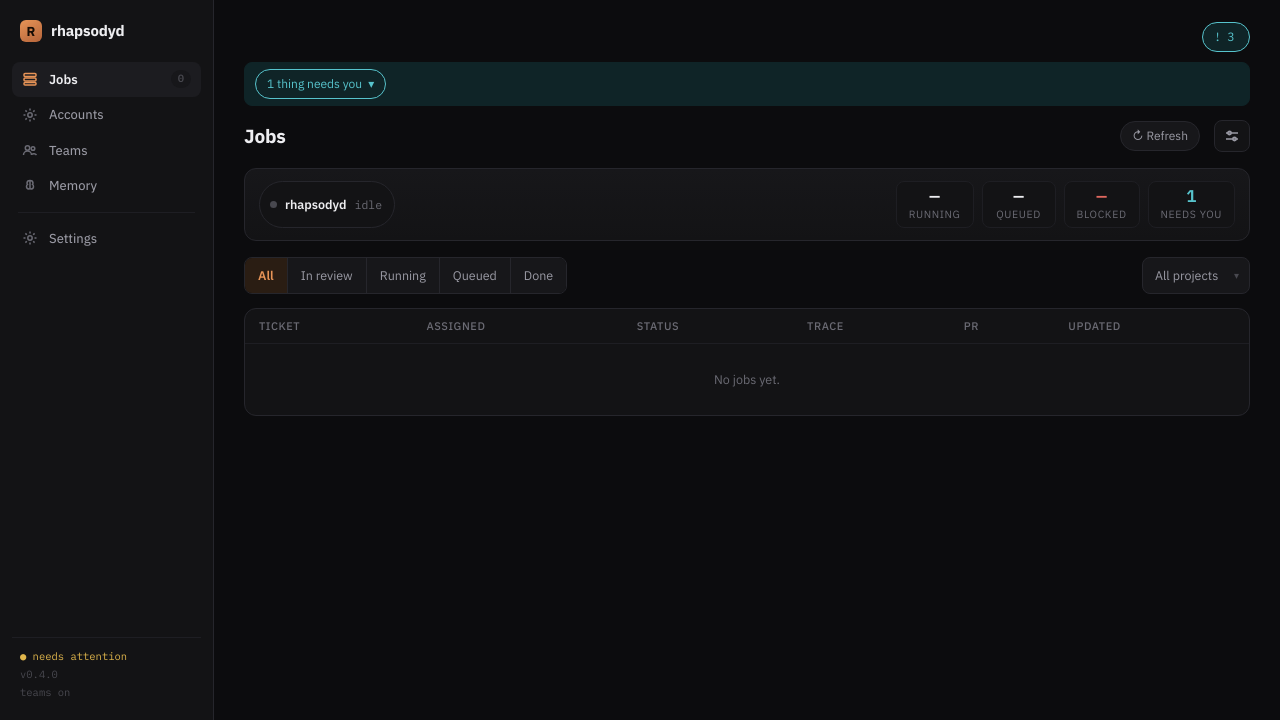
Scenario: shares the unread Needs-you count and filtered panel with the Jobs tile, including a real stuck PR
expect the text "1" is shown: met, box [1186,185,1196,207]
What coordinates should you click on to do the following:
click the button with aria-label "Needs you, 1 unread"
I would click on:
 (1191, 204)
Its box is [1148,181,1235,228].
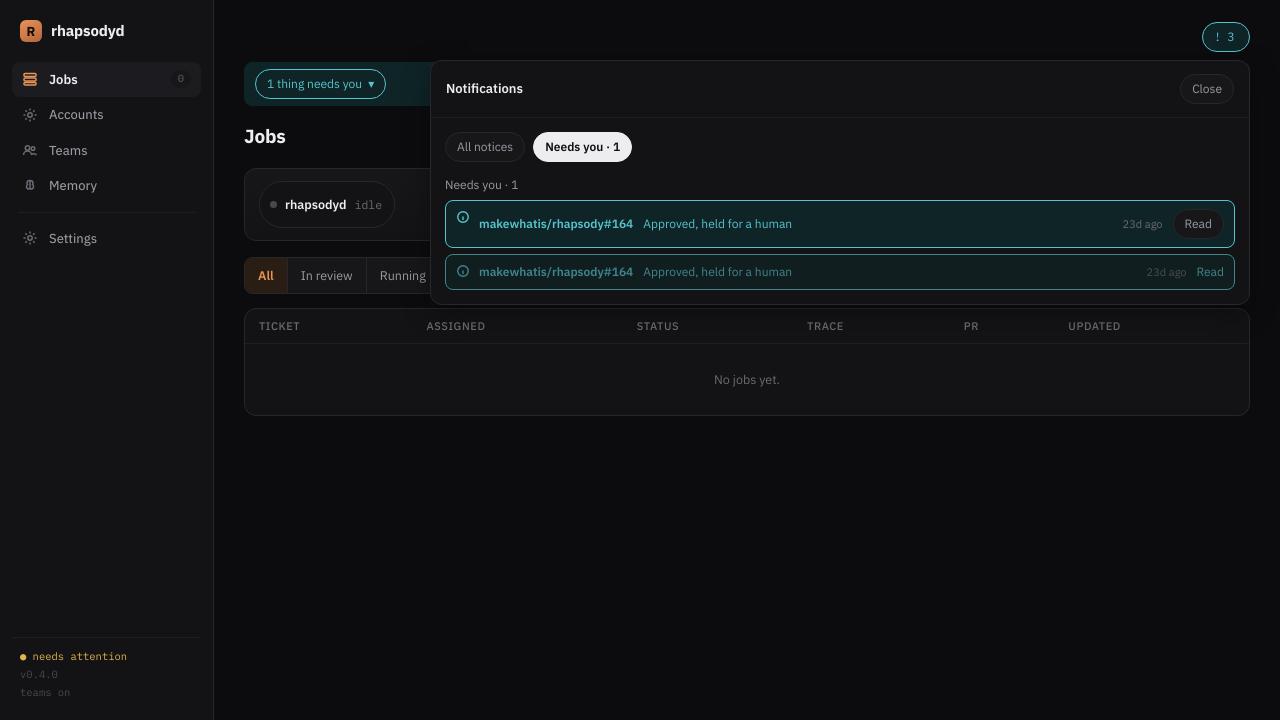
expect the heading "Decisions" is not shown: met
expect the heading "Needs you · 1" is shown: met, box [445,177,518,192]
expect the number of list items is 2: met, box [445,200,1235,248]; [445,254,1235,290]
What coordinates should you click on to do the following:
click the button "Close"
I would click on:
 (1207, 89)
Its box is [1180,74,1234,104].
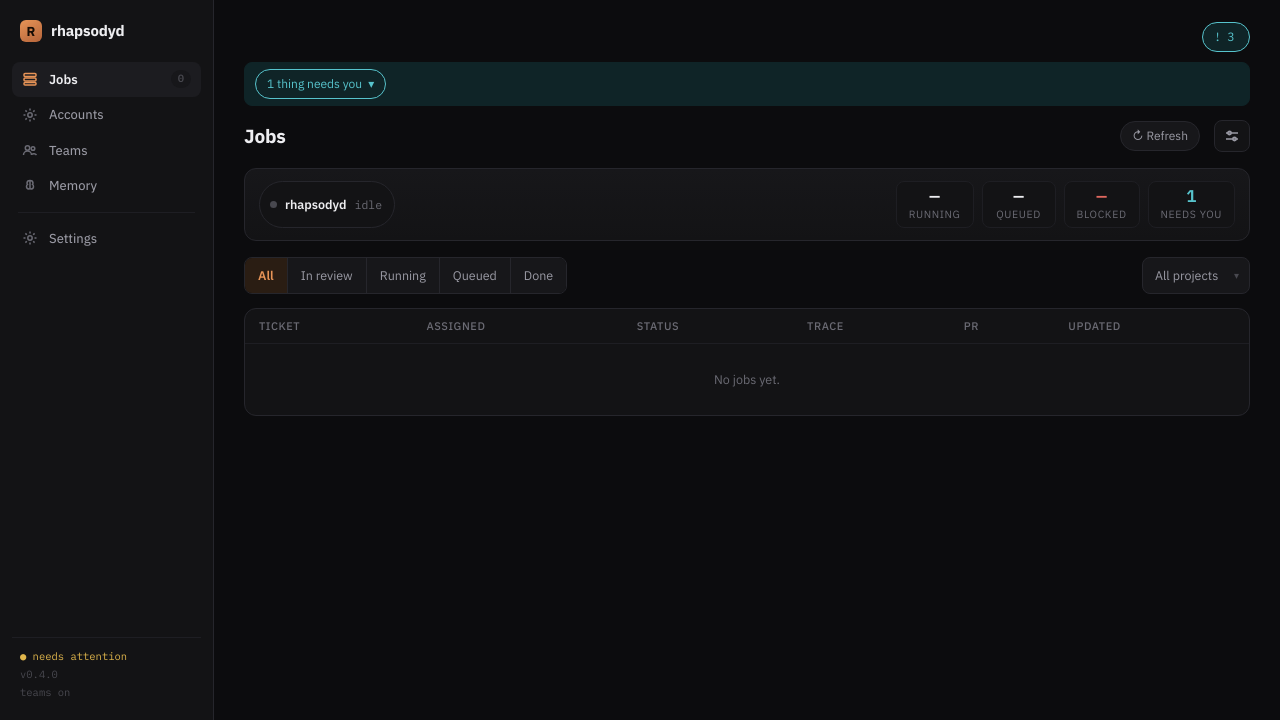
What coordinates should you click on to do the following:
click the button named "Notifications, 3 unread"
I would click on:
 (1226, 37)
Its box is [1202,22,1250,52].
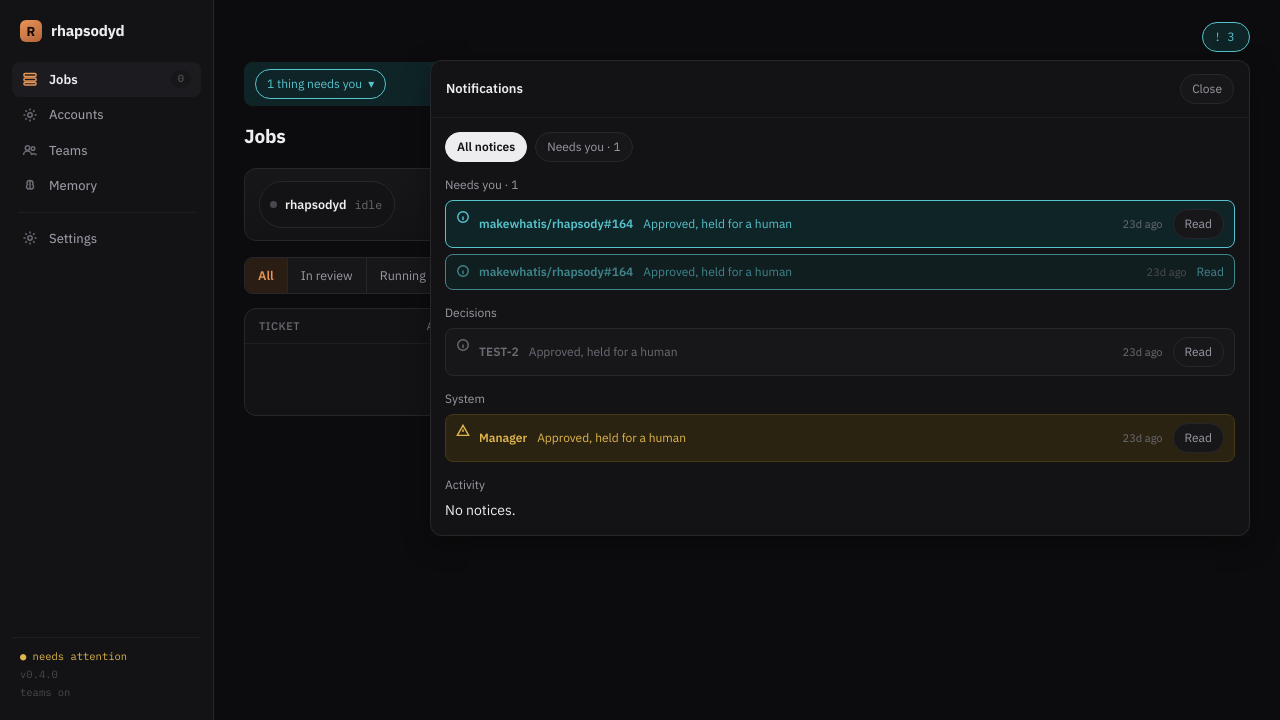
expect the heading "Needs you · 1" is shown: met, box [445,177,518,192]
expect the heading "Decisions" is shown: met, box [445,305,497,320]
